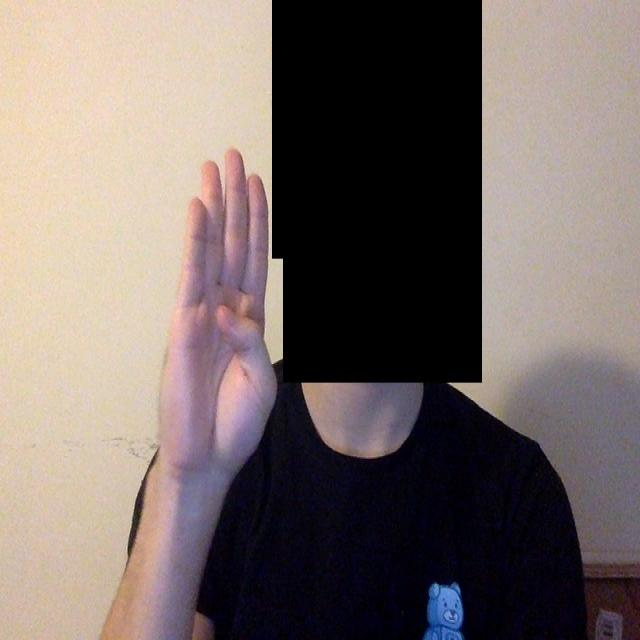B: (153, 137, 285, 491)
